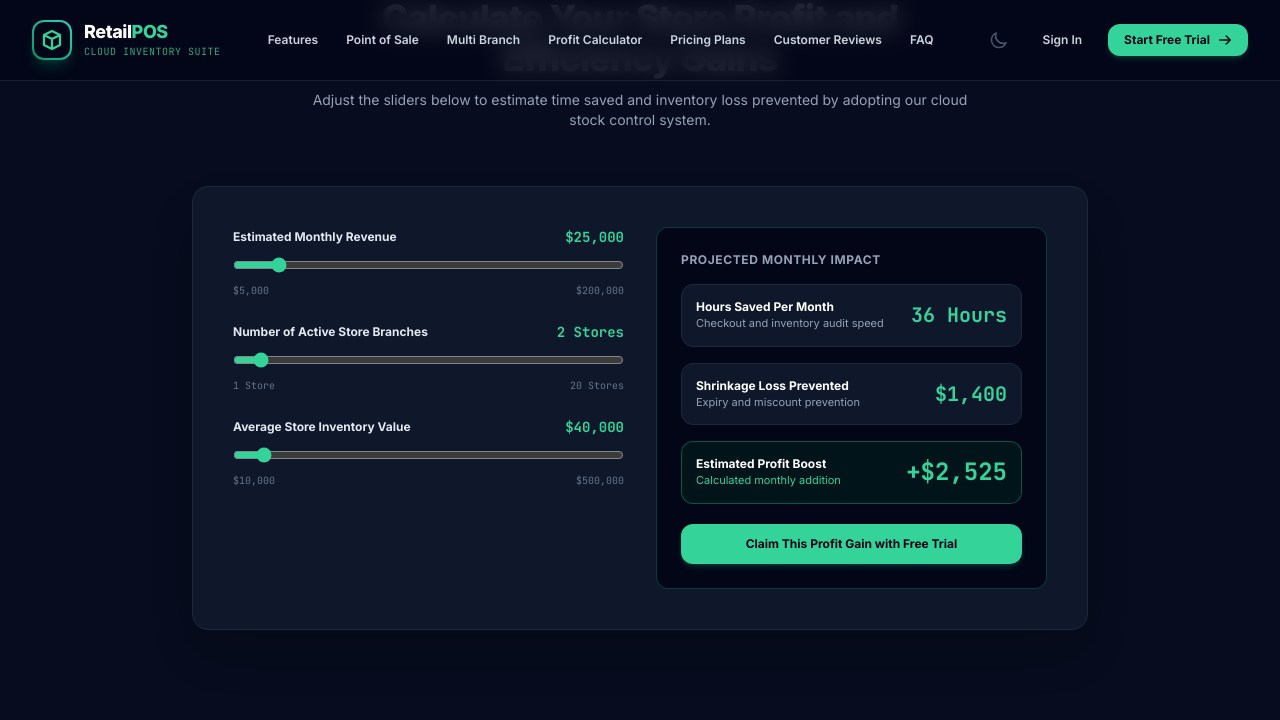
LandingPage Component and SEO › updates ROI calculator estimates when sliders change
The image size is (1280, 720).
(page scrolled)
Note: Find the branch slider
Set the slider labelled "Number of Active Store Branches" to "5" at (320, 360), box [233,352,624,368]
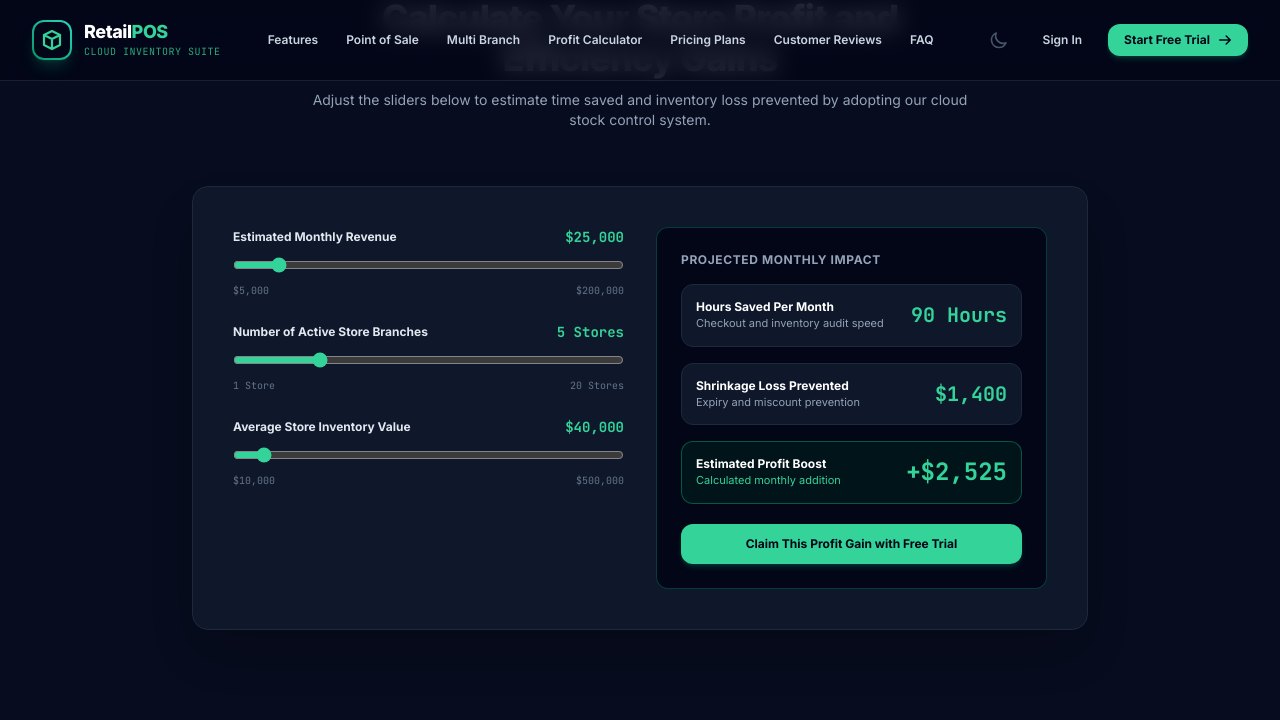
Expected: the text "5 Stores" is shown, [557,322,624,342]
